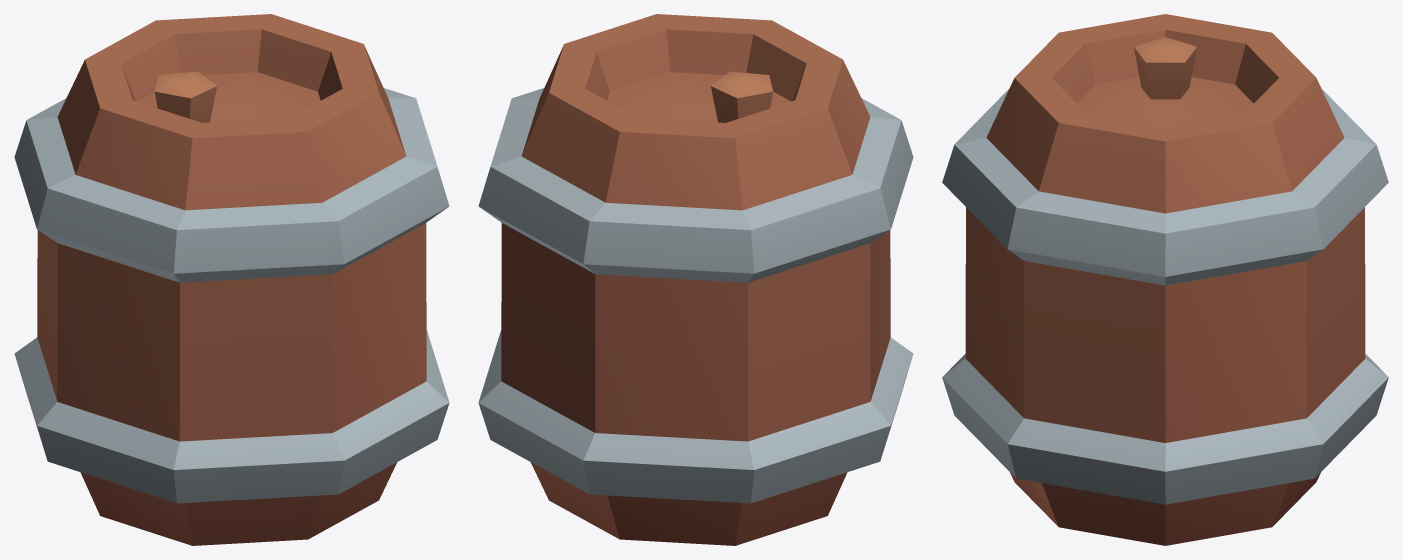
File: barrel_small.glb
3 views of the same model, side by side, from view 1: azimuth 30°, elevation 25°; view 2: azimuth 150°, elevation 25°; view 3: azimuth 270°, elevation 25° (orthographic).
Parts seen in each view (by area): view 1: barrel_small; view 2: barrel_small; view 3: barrel_small.
Boxes of the visible parts, x1=… form: barrel_small: x1=14, y1=14, x2=449, y2=545; barrel_small: x1=478, y1=14, x2=913, y2=545; barrel_small: x1=942, y1=14, x2=1388, y2=545.
Bounding box in the file's own units: 1 × 1.02 × 1.
Materials: 1 (1 with a texture image).
